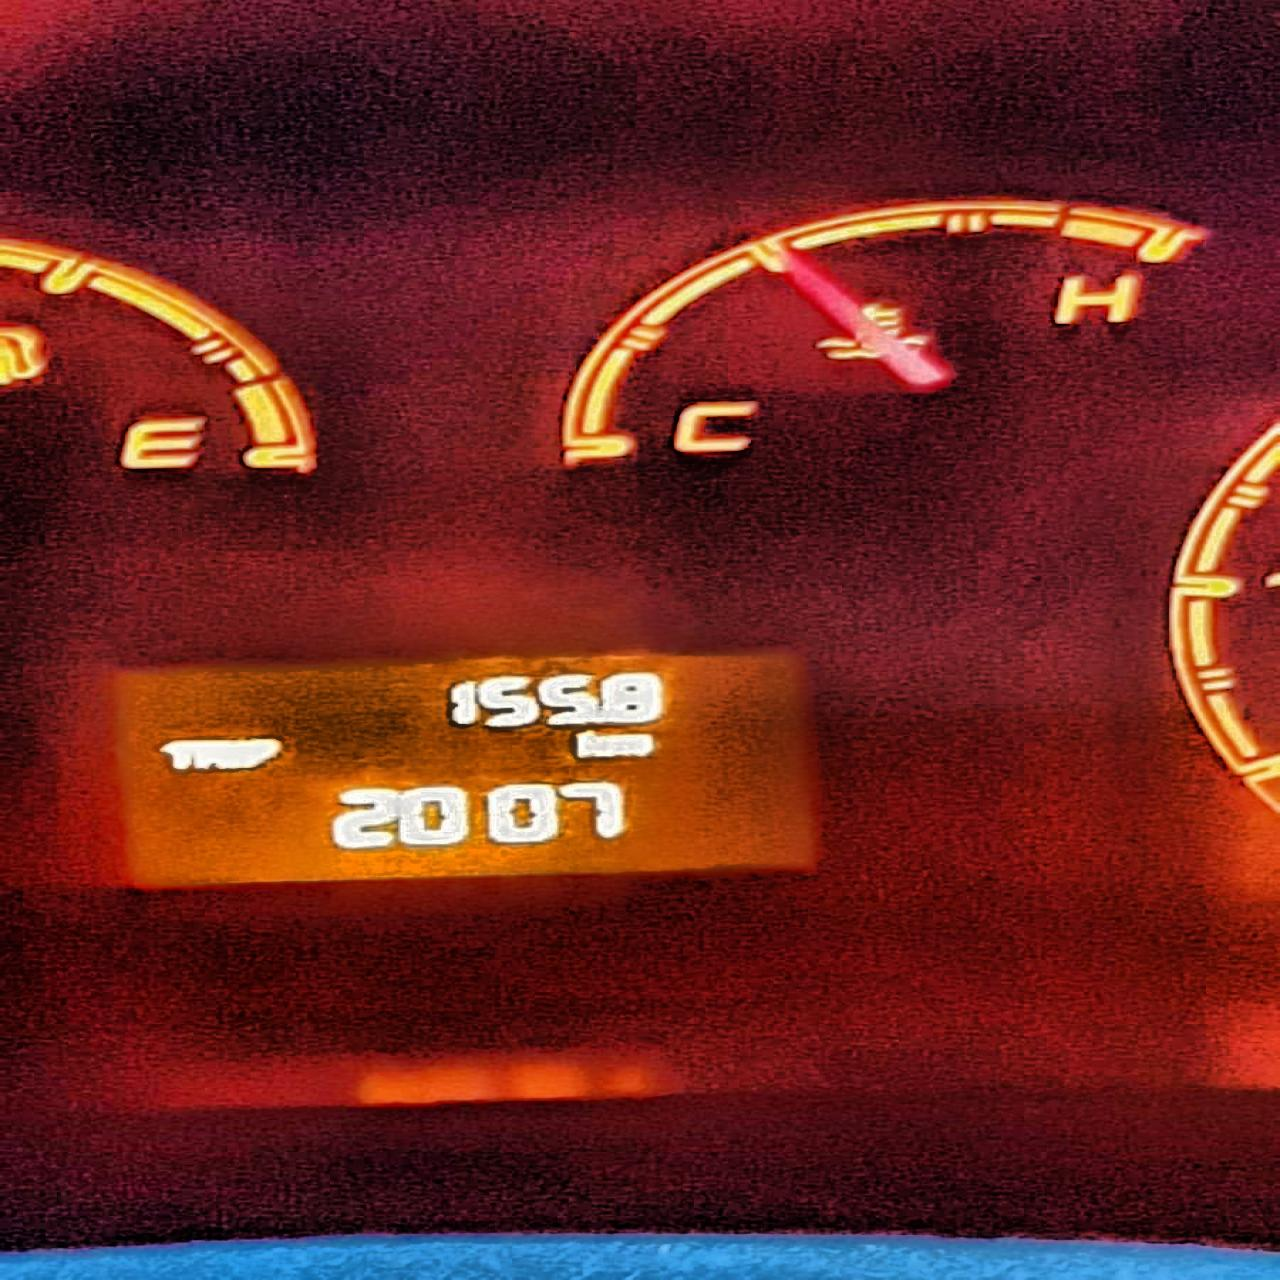0: (481, 781, 560, 845), (397, 783, 471, 846)
1: (445, 679, 478, 726)
2: (331, 785, 400, 850)
5: (478, 675, 539, 729), (538, 673, 599, 726)
7: (559, 779, 628, 840)
8: (597, 672, 666, 722)
X: (611, 730, 655, 757), (573, 729, 610, 760), (159, 738, 192, 771), (193, 738, 226, 771), (245, 737, 279, 769), (226, 737, 245, 772)
odometer: (102, 644, 825, 896)
